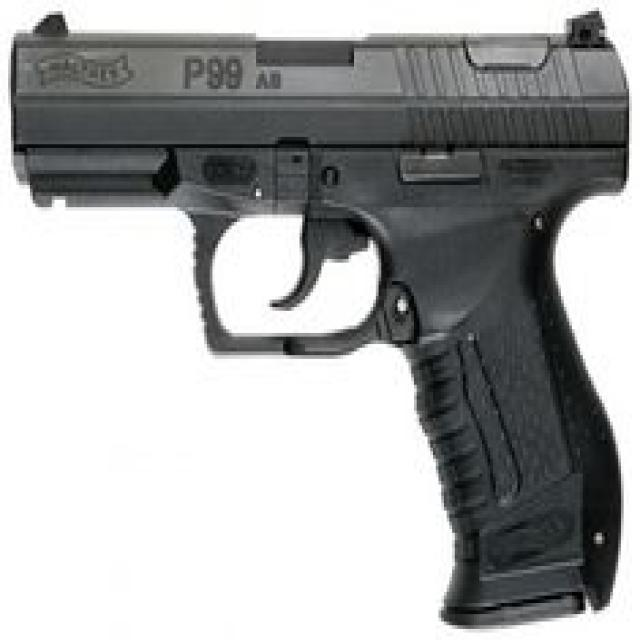semi automatic: (0, 4, 640, 629)
